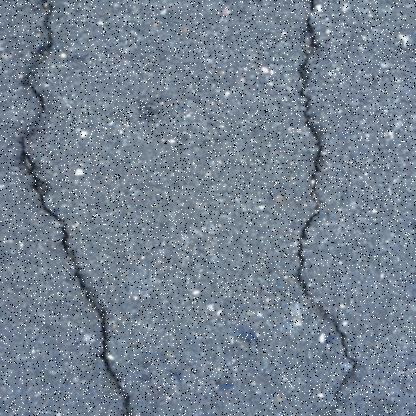Cracks: (7, 0, 143, 415), (281, 0, 366, 415)
